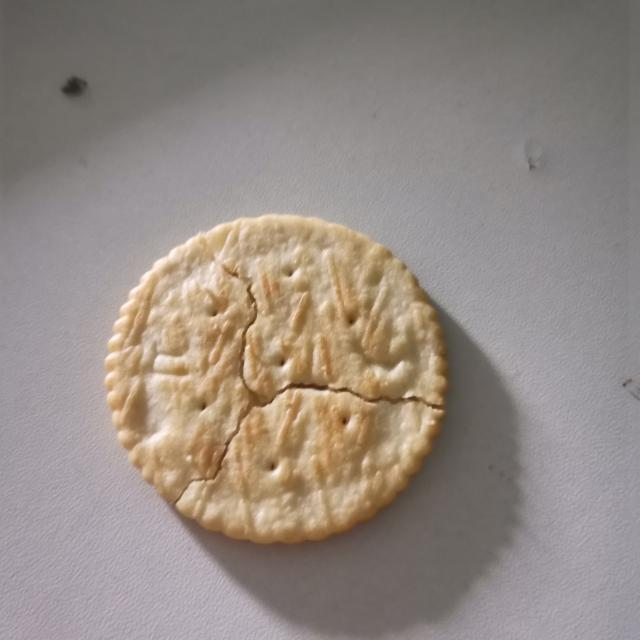Fracture: (162, 237, 448, 519)
